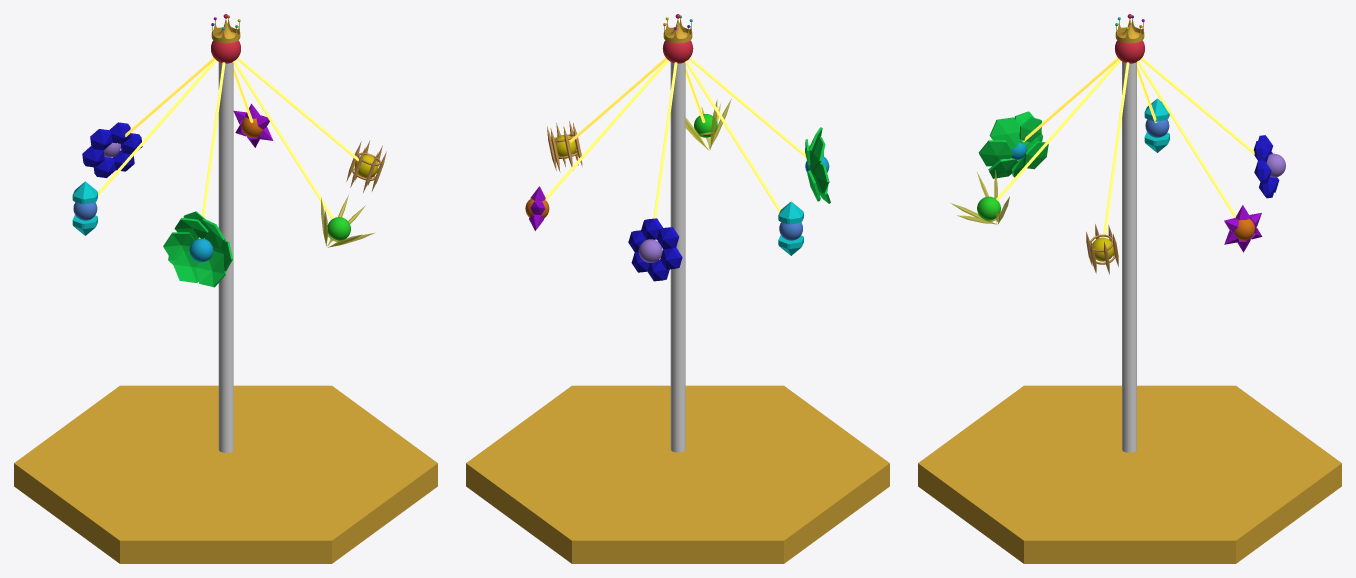
The model's file is orrerry.fbx.
3 renders of one model, left to right at view 1: azimuth 30°, elevation 25°; view 2: azimuth 150°, elevation 25°; view 3: azimuth 270°, elevation 25°, orthographic.
Parts seen in each view (by area): view 1: H Orrery, Gem_red_Sphere.013, C Viewfinder.001; view 2: H Orrery, Gem_red_Sphere.013, C Viewfinder.001; view 3: H Orrery, Gem_red_Sphere.013, C Viewfinder.001.
Part boxes in pixels (bbox=[...]): H Orrery: bbox=[14, 385, 437, 563]; Gem_red_Sphere.013: bbox=[72, 14, 386, 287]; C Viewfinder.001: bbox=[218, 62, 233, 452]; H Orrery: bbox=[466, 385, 889, 563]; Gem_red_Sphere.013: bbox=[525, 14, 830, 281]; C Viewfinder.001: bbox=[670, 62, 685, 452]; H Orrery: bbox=[918, 385, 1341, 563]; Gem_red_Sphere.013: bbox=[950, 14, 1285, 274]; C Viewfinder.001: bbox=[1122, 61, 1136, 452].
Size of the model in its own units: 409 by 580 by 472.
